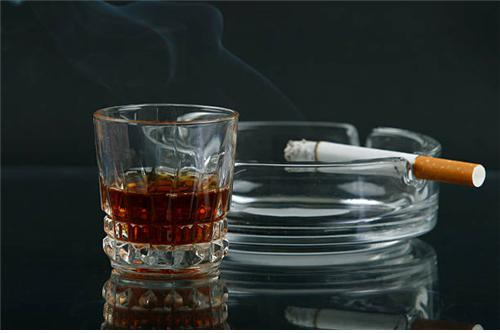alcohol: (92, 104, 229, 273)
cigarette: (286, 138, 484, 187)
